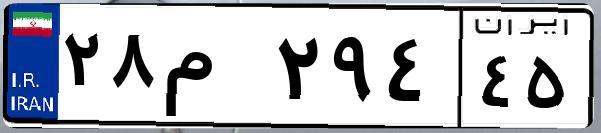2: (270, 28, 330, 110), (57, 26, 110, 100)
4: (385, 28, 445, 110), (475, 38, 525, 113)
5: (525, 38, 570, 115)
8: (110, 28, 158, 98)
9: (330, 28, 385, 110)
م: (158, 20, 270, 120)
